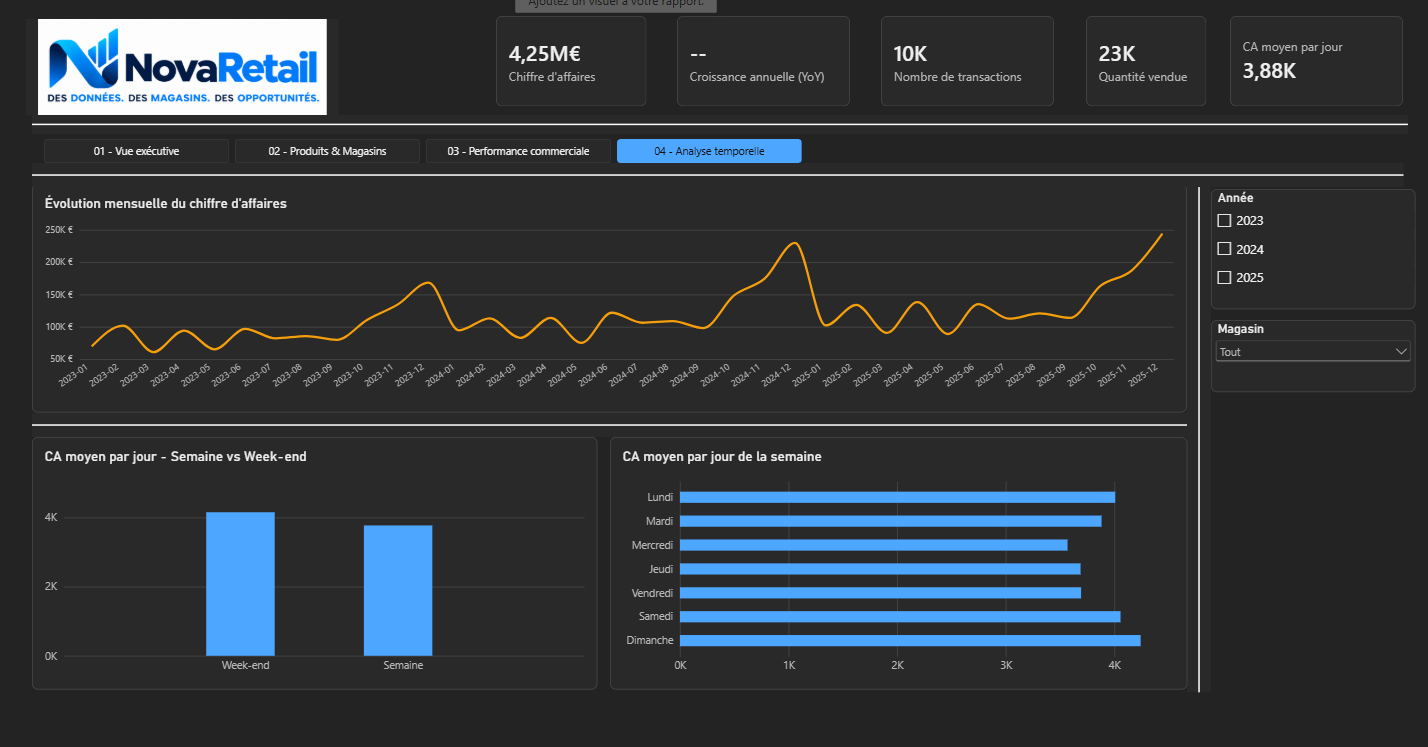

The dashboard page shown, as its layout file describes it:
{"tool":"powerbi","page":{"name":"04 - Analyse temporelle","canvas":[1920,1080],"ordinal":3},"visuals":[{"type":"cardVisual","fields":{"Data":["_Mesures.Chiffre d'affaires"]},"box":[665.3,27.9,200,120],"z":0},{"type":"cardVisual","fields":{"Data":["_Mesures.Nombre de transactions"]},"box":[1177.3,27.9,230,120],"z":1000},{"type":"cardVisual","fields":{"Data":["_Mesures.Quantité vendue"]},"box":[1449.3,27.9,160,120],"z":2000},{"type":"image","box":[40,32,416,128],"z":3000},{"type":"lineChart","title":"Évolution mensuelle du chiffre d''affaires","fields":{"Category":["dim_date.Annee_Mois"],"Y":["_Mesures.Chiffre d'affaires"]},"box":[48,252,1536,304],"z":4000},{"type":"slicer","fields":{"Values":["dim_magasin.nom_magasin"]},"box":[1616,432,272,96],"z":5000},{"type":"cardVisual","fields":{"Data":["_Mesures.Croissance YoY - KPI"]},"box":[905.3,27.9,230,120],"z":6000},{"type":"shape","box":[48,556,1550,32],"z":7000},{"type":"shape","box":[1584,256,32,672],"z":8000},{"type":"cardVisual","fields":{"Data":["_Mesures.CA moyen par jour"]},"box":[1641.3,27.9,230,120],"z":9000},{"type":"clusteredColumnChart","title":"CA moyen par jour - Semaine vs Week-end","fields":{"Category":["dim_date.Type de jour"],"Y":["_Mesures.CA moyen par jour"]},"box":[48,588,752,336],"z":10000},{"type":"clusteredBarChart","title":"CA moyen par jour de la semaine","fields":{"Category":["dim_date.nom_jour"],"Y":["_Mesures.CA moyen par jour"]},"box":[816,588,768,336],"z":11000},{"type":"shape","box":[48,160,1830,25],"z":12000},{"type":"shape","box":[48,224,1824,32],"z":13000},{"type":"pageNavigator","box":[64,192,1008,32],"z":14000},{"type":"slicer","fields":{"Values":["dim_date.annee"]},"box":[1616,257.8,272,160],"z":15000}]}

Visuals, with their boxes on the page's 1920x1080 design canvas (x1, y1, x2, y2). These are canvas units, not pixel positions in the 1428x747 screenshot, which may show the page scaled, cropped or inside an application window:
cardVisual - _Mesures.Chiffre d'affaires: box(665, 28, 865, 148)
cardVisual - _Mesures.Nombre de transactions: box(1177, 28, 1407, 148)
cardVisual - _Mesures.Quantité vendue: box(1449, 28, 1609, 148)
image: box(40, 32, 456, 160)
"Évolution mensuelle du chiffre d''affaires" lineChart: box(48, 252, 1584, 556)
slicer - dim_magasin.nom_magasin: box(1616, 432, 1888, 528)
cardVisual - _Mesures.Croissance YoY - KPI: box(905, 28, 1135, 148)
shape: box(48, 556, 1598, 588)
shape: box(1584, 256, 1616, 928)
cardVisual - _Mesures.CA moyen par jour: box(1641, 28, 1871, 148)
"CA moyen par jour - Semaine vs Week-end" clusteredColumnChart: box(48, 588, 800, 924)
"CA moyen par jour de la semaine" clusteredBarChart: box(816, 588, 1584, 924)
shape: box(48, 160, 1878, 185)
shape: box(48, 224, 1872, 256)
pageNavigator: box(64, 192, 1072, 224)
slicer - dim_date.annee: box(1616, 258, 1888, 418)
